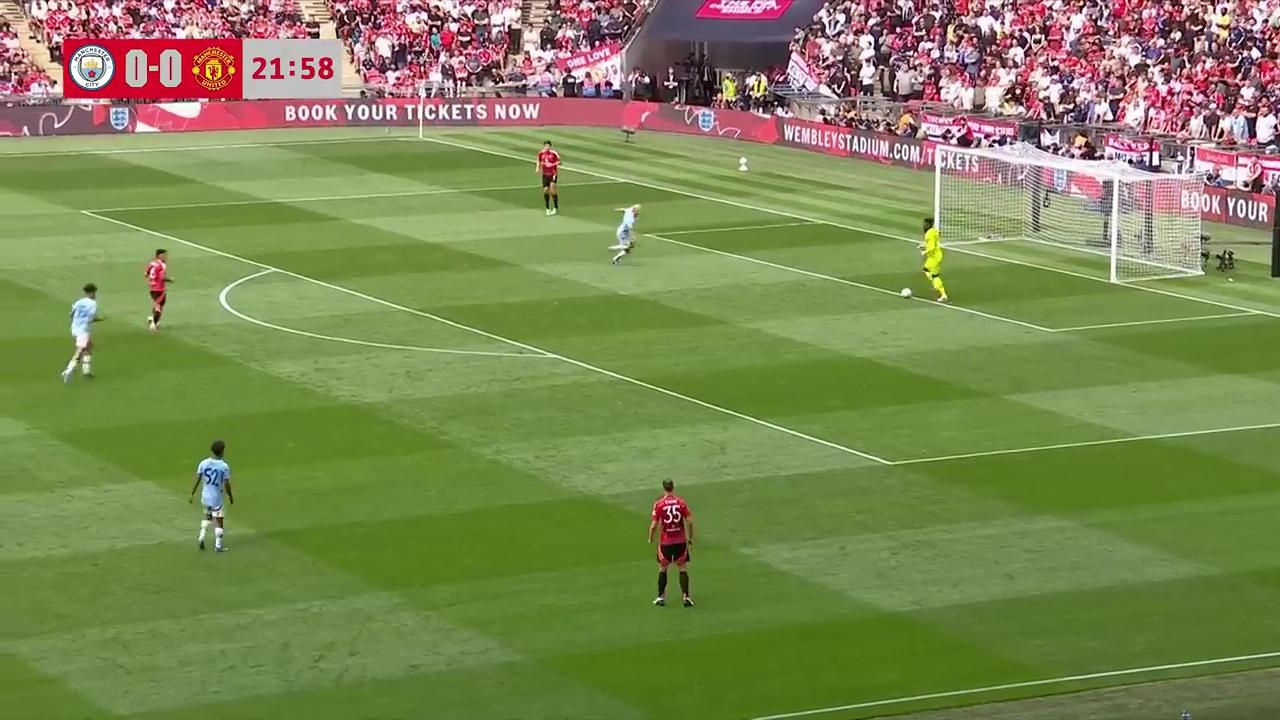ball: (900, 284, 912, 298)
player: (647, 479, 695, 609), (188, 442, 233, 554), (61, 285, 100, 384), (142, 248, 172, 333), (920, 220, 947, 303), (534, 138, 559, 214), (610, 208, 638, 264)
